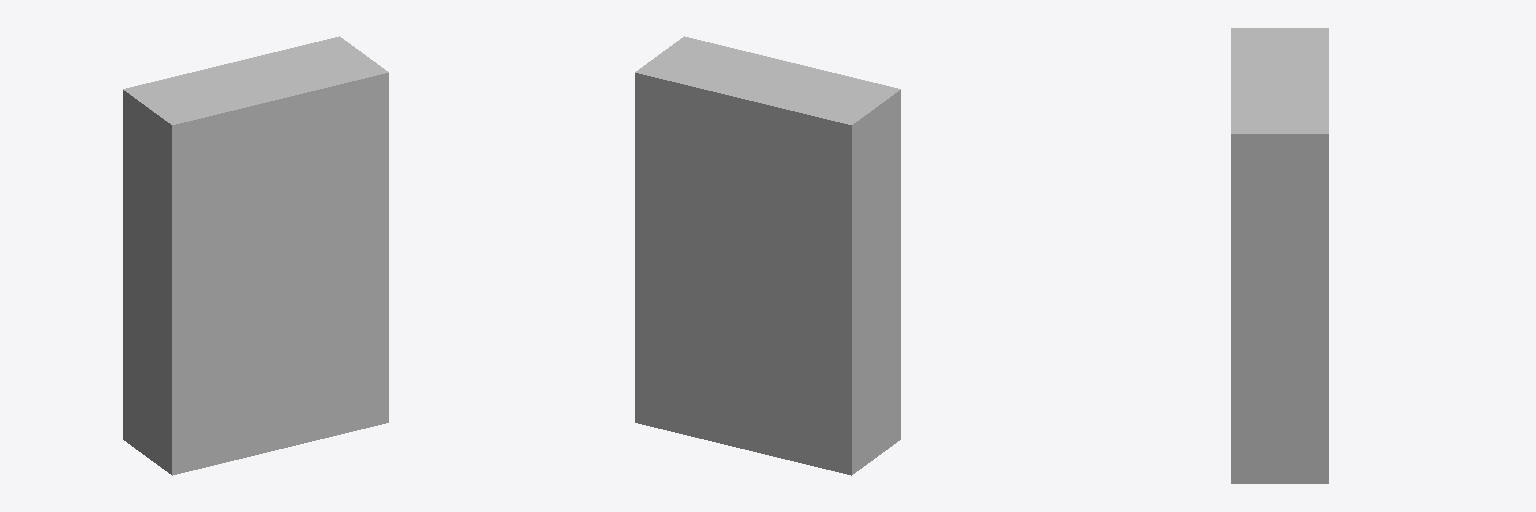
The picture shows the model from 3 angles: view 1: azimuth 30°, elevation 25°; view 2: azimuth 150°, elevation 25°; view 3: azimuth 270°, elevation 25°; orthographic projection.
Parts seen in each view (by area): view 1: Cereal_Box; view 2: Cereal_Box; view 3: Cereal_Box.
Boxes of the visible parts, box(x1,y1,x2,y2) form: Cereal_Box: box(123, 36, 388, 475); Cereal_Box: box(635, 36, 900, 475); Cereal_Box: box(1231, 28, 1328, 483).
Size of the model in its own units: 0.8515 by 1.31 by 0.3361.